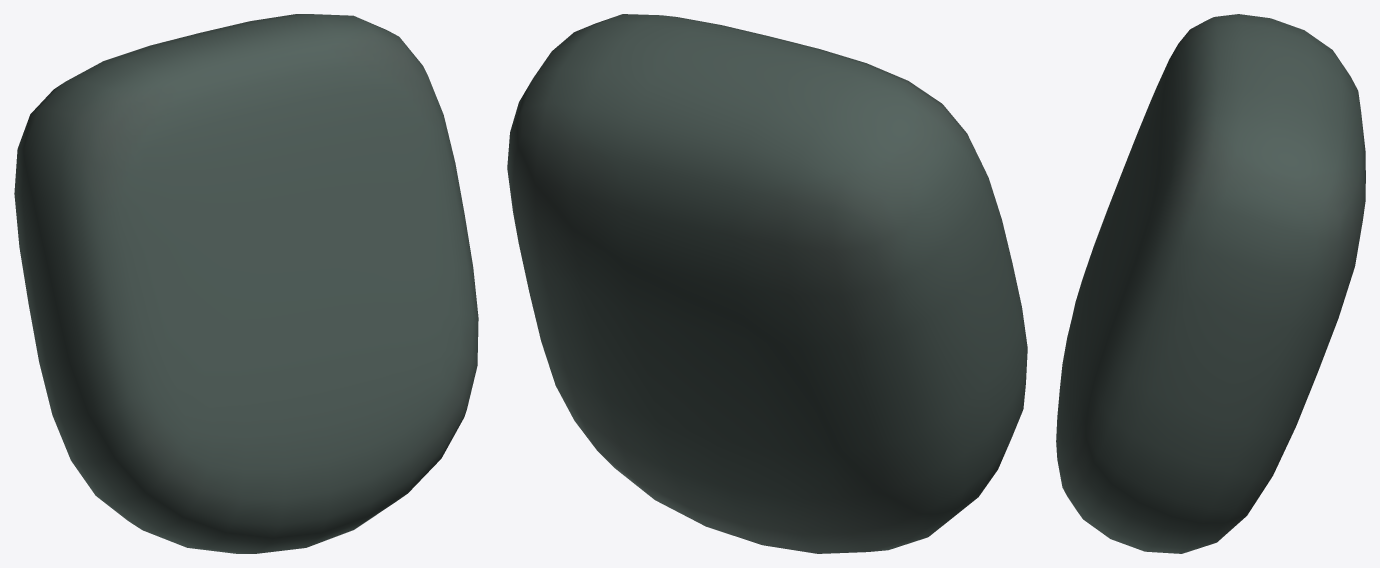
The model's file is choc_001.obj.
3 views of the same model, side by side, from view 1: azimuth 30°, elevation 25°; view 2: azimuth 150°, elevation 25°; view 3: azimuth 270°, elevation 25° (orthographic). The views are drawn at different scales.
Visible parts, largest first — view 1: choc.001; view 2: choc.001; view 3: choc.001.
Part boxes in pixels (x1,y1,x2,y2): choc.001: (14,14,478,553); choc.001: (507,14,1027,553); choc.001: (1056,14,1365,553).
Size of the model in its own units: 1.96 by 2.22 by 1.34.
1 material, 1 textured.
